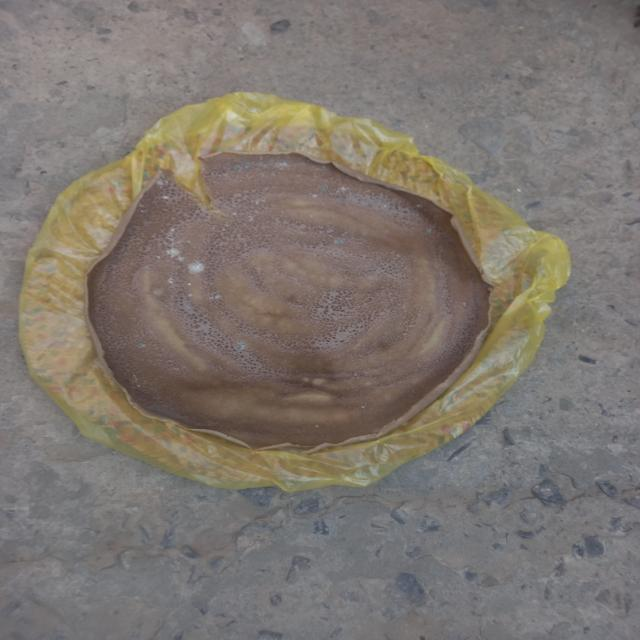injera_mold: (155, 227, 185, 263), (123, 374, 144, 391), (186, 260, 204, 276), (267, 157, 288, 170), (152, 174, 170, 188), (207, 293, 223, 302), (137, 203, 149, 214), (251, 198, 267, 205), (220, 224, 230, 232), (236, 343, 247, 350), (167, 277, 176, 285), (247, 212, 254, 222), (137, 343, 146, 349), (256, 162, 265, 168), (242, 162, 250, 168), (300, 162, 308, 168), (339, 186, 348, 191), (172, 368, 183, 372), (321, 184, 328, 190), (334, 240, 344, 244), (162, 195, 170, 200), (462, 302, 468, 307), (234, 166, 241, 170), (342, 233, 348, 237), (186, 240, 192, 244), (311, 194, 318, 197), (361, 406, 366, 410), (315, 424, 320, 428), (233, 211, 237, 216), (270, 173, 275, 177), (187, 283, 192, 286), (188, 294, 191, 298), (338, 200, 342, 202)
